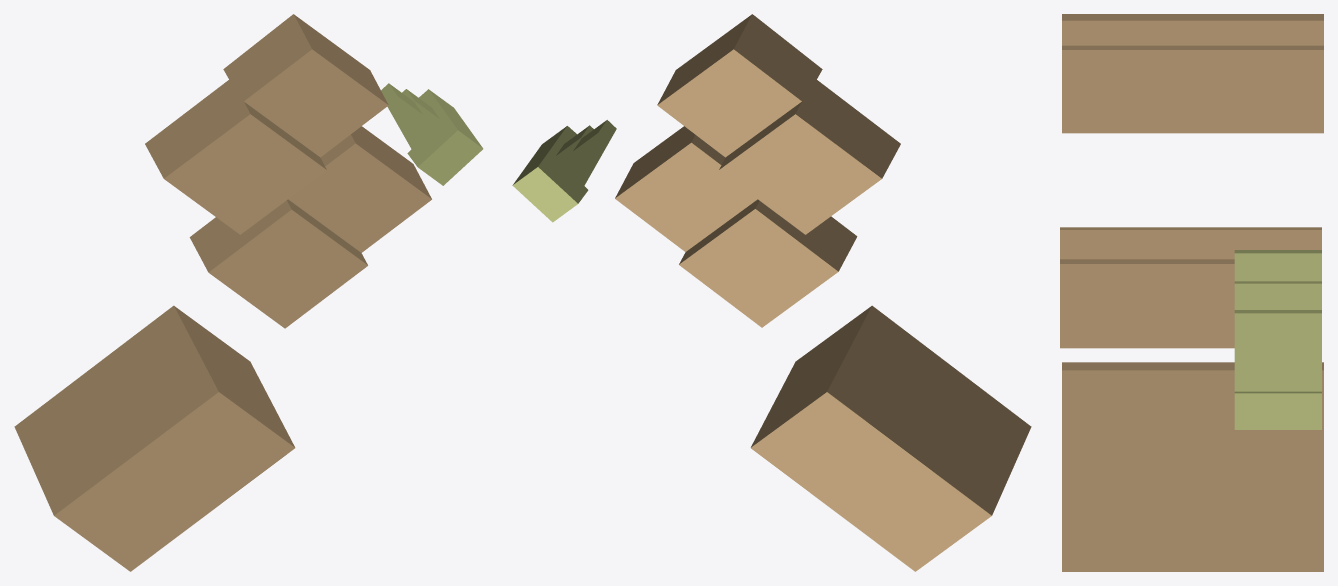
3 views of the same model, side by side, from view 1: azimuth 30°, elevation 25°; view 2: azimuth 150°, elevation 25°; view 3: azimuth 270°, elevation 25° (orthographic). The views are drawn at different scales.
Parts seen in each view (by area): view 1: 0_0_1_1_2_1_2_3; view 2: 0_0_1_1_2_1_2_3; view 3: 0_0_1_1_2_1_2_3.
Boxes of the visible parts, x1,y1,x2,y2 form: 0_0_1_1_2_1_2_3: (14,14,483,571); 0_0_1_1_2_1_2_3: (512,14,1031,571); 0_0_1_1_2_1_2_3: (1060,14,1323,571).
Bounding box in the file's own units: 90.13 × 86.2 × 27.2.
